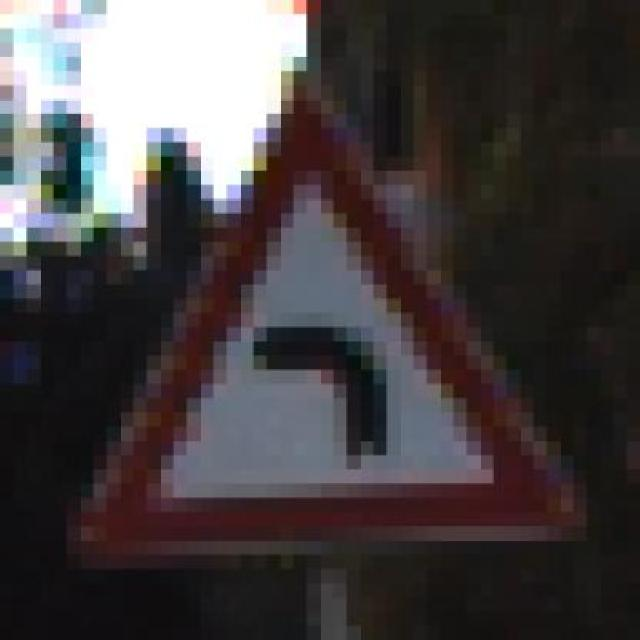Dangerous Left Curve Ahead: (53, 57, 601, 569)
